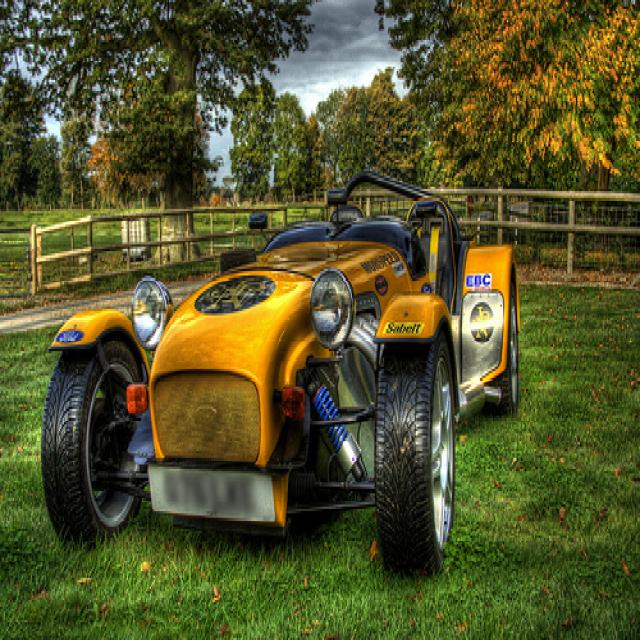Car: (41, 162, 527, 582)
